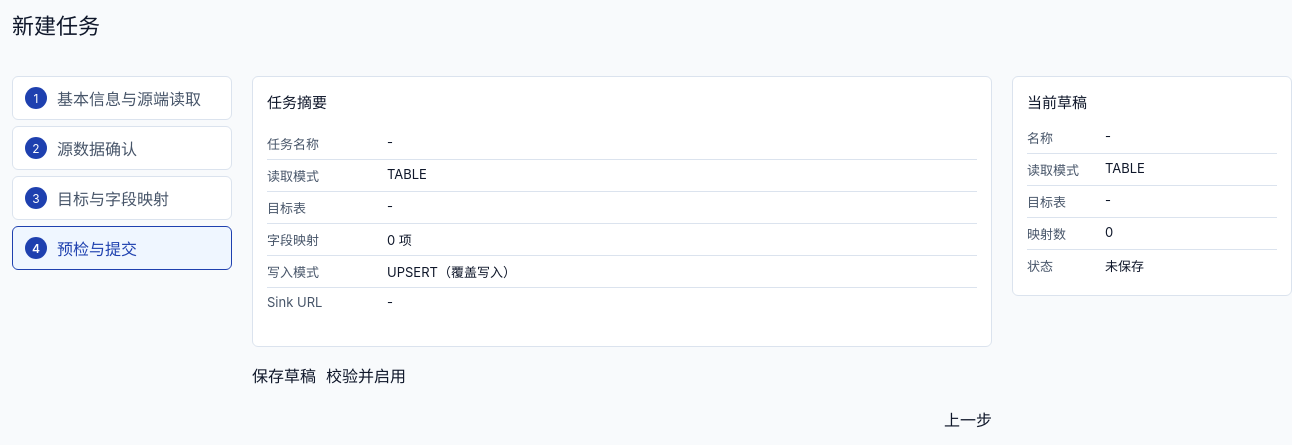
Scenario: TaskCreateView › 预检存在阻断项时不能启用
Click the text with test id "validate-enable". click: x=366, y=375
box: [326,363,406,387]
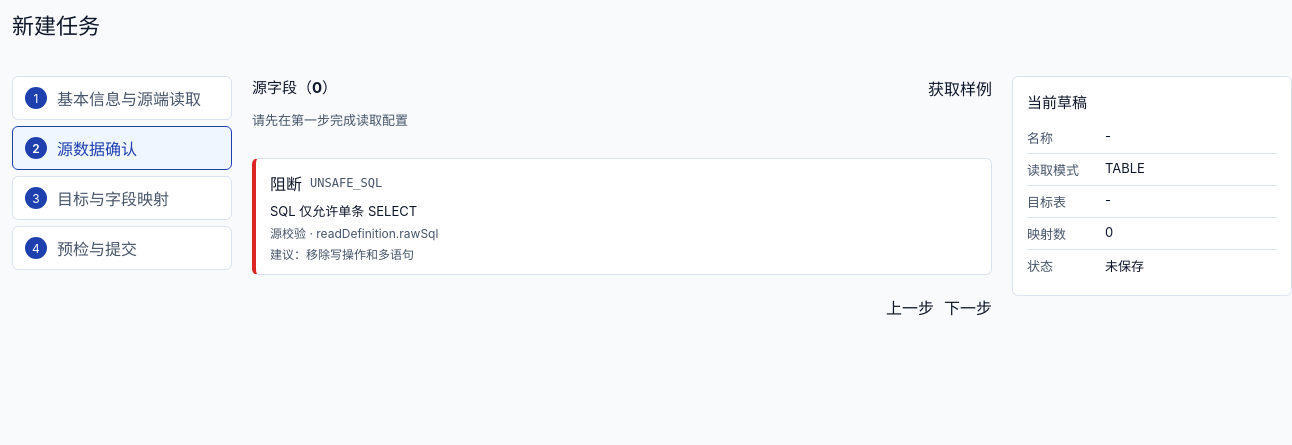
Now the text "SQL 仅允许单条 SELECT" is shown, box [270,203,417,219]
